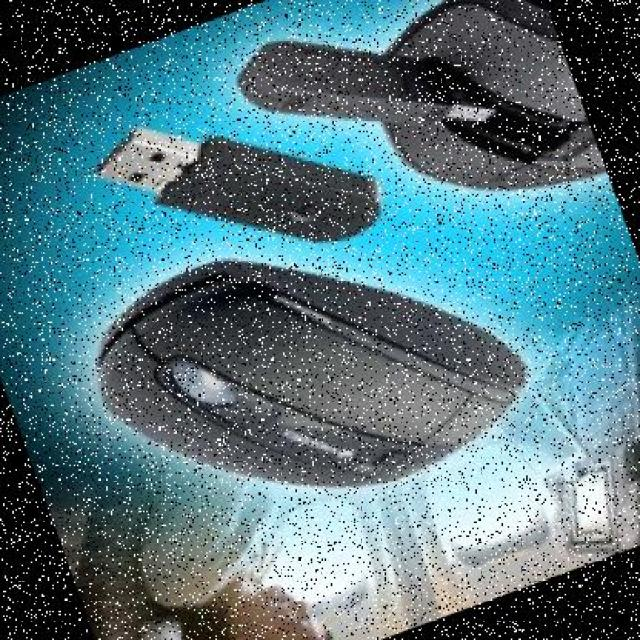mause: (74, 191, 540, 629)
